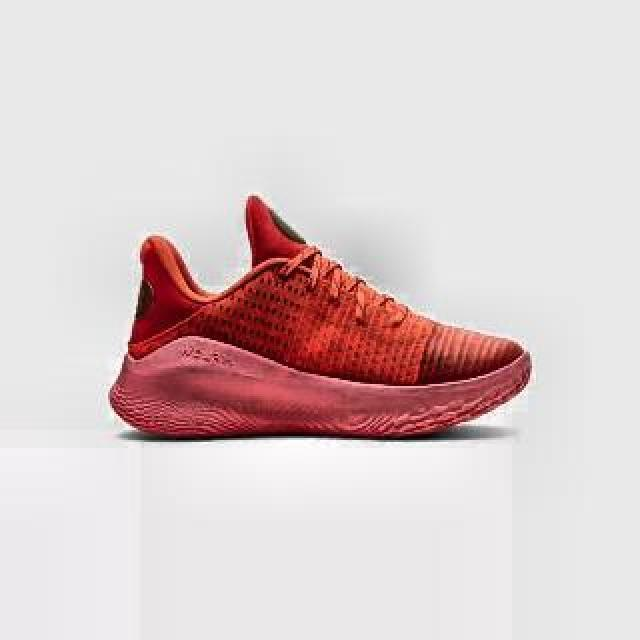shoes: (109, 195, 531, 441)
